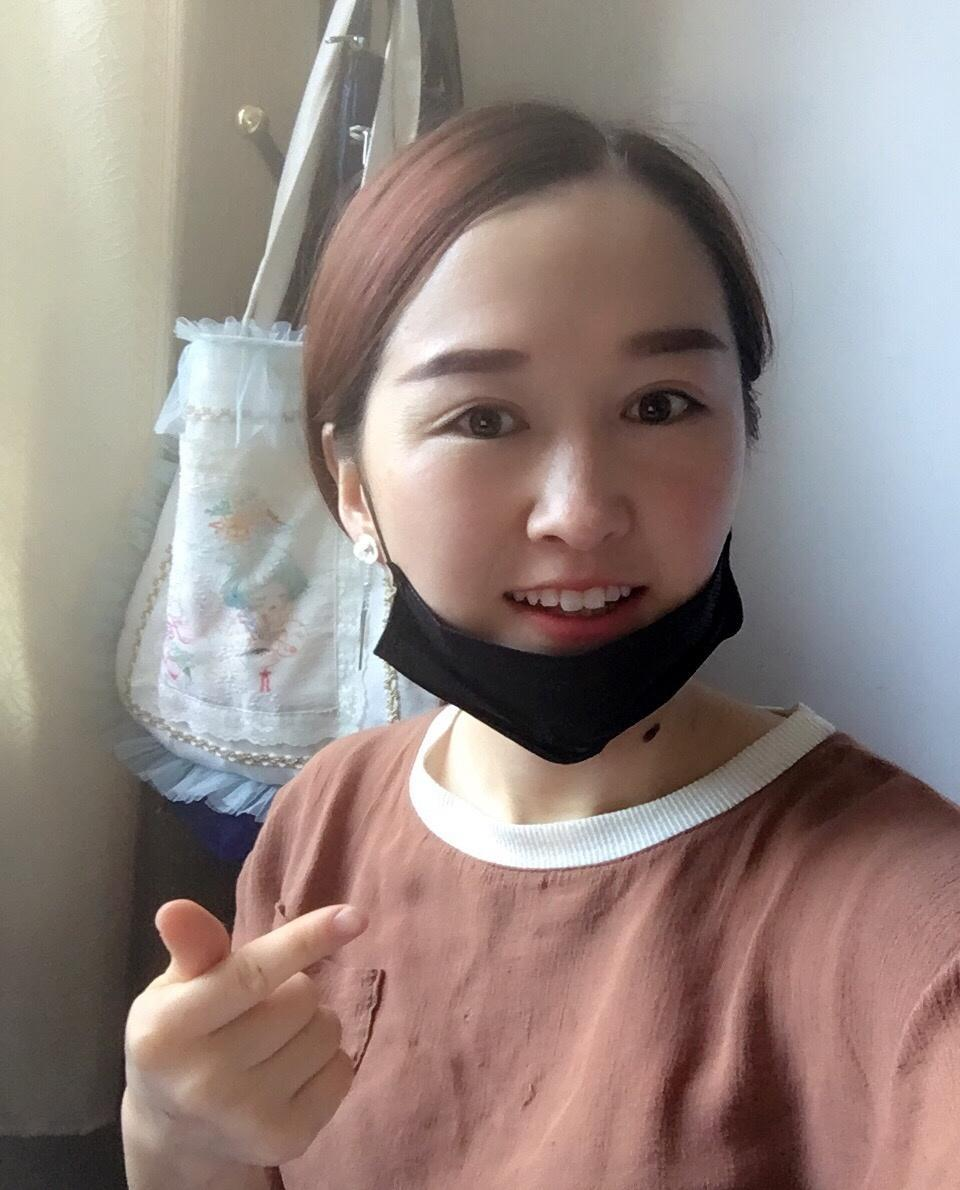WRONG: (360, 299, 744, 716)
